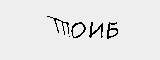Б: (105, 19, 120, 43)
И: (88, 19, 103, 42)
О: (70, 19, 86, 41)
П: (61, 17, 71, 41)
Т: (47, 15, 61, 37)
